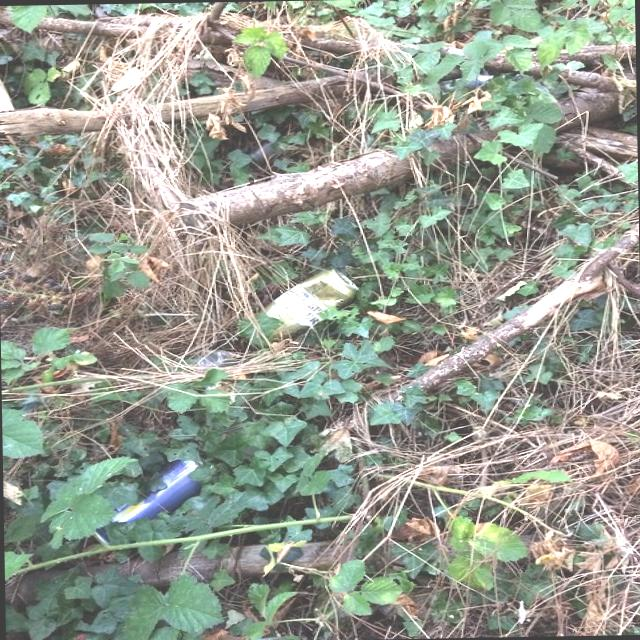Recycle: (235, 266, 362, 337), (89, 460, 209, 530)
